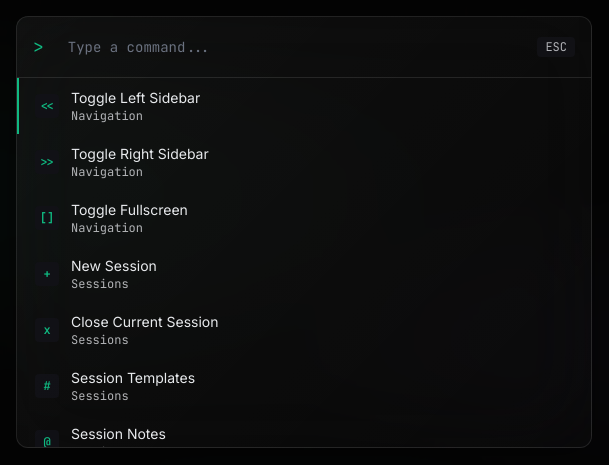
it: CommandPalette › filtering › should show "No commands found" when no matches
Step 1. Type "xyznonexistent" into the field with placeholder "Type a command..." → (291, 47), box [56,29,525,65]
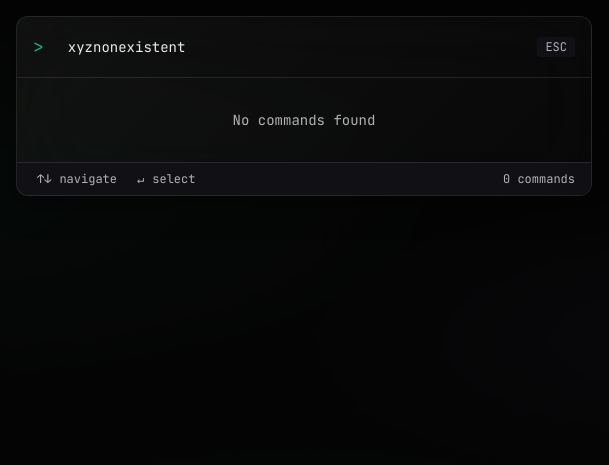
Expected: the text "No commands found" is shown, [233,111,375,129]
